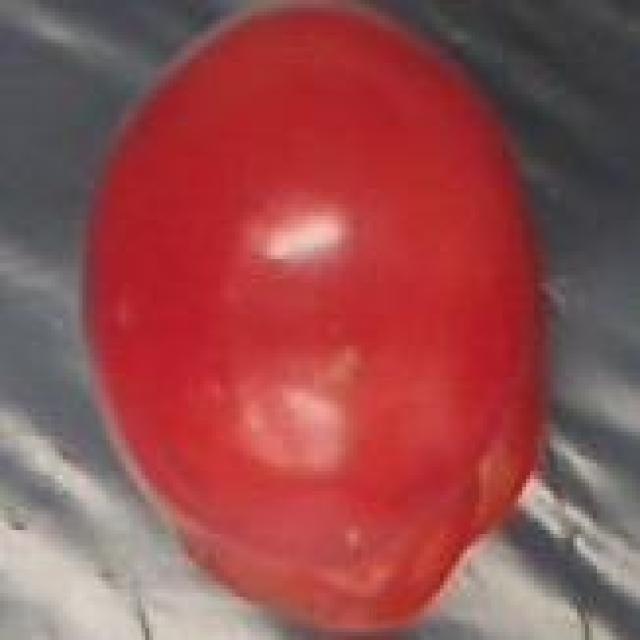overripe tomato: (79, 4, 562, 640)
